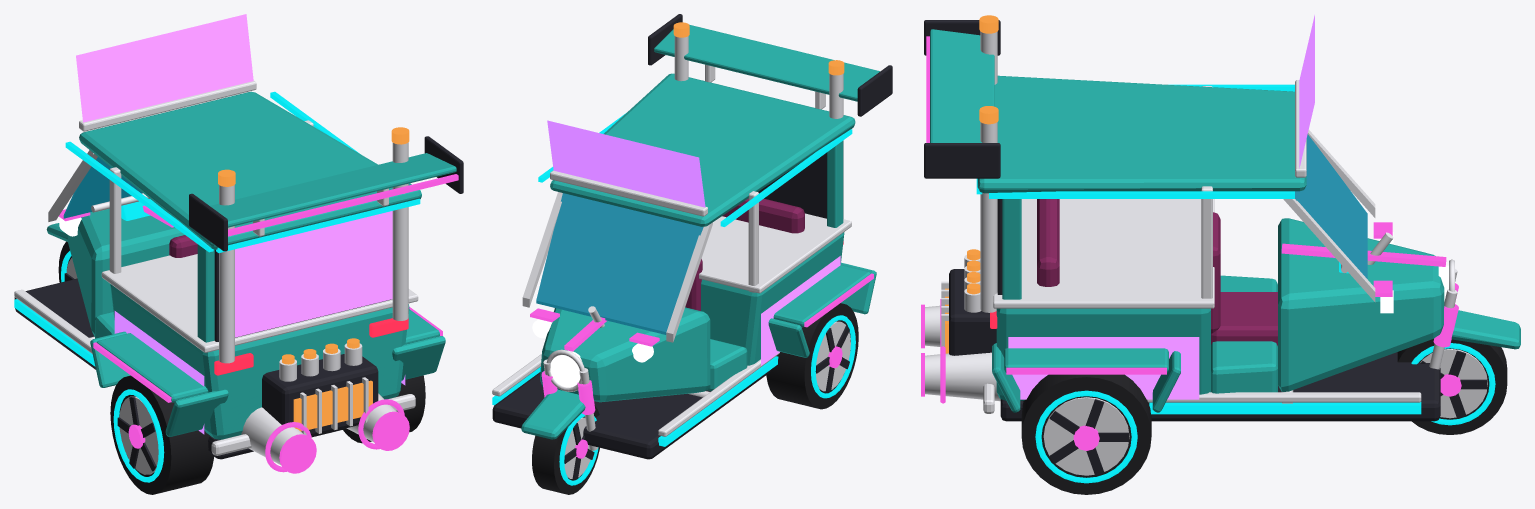
File: cyber_rickshaw.glb
3 renders of one model, left to right at view 1: azimuth 30°, elevation 25°; view 2: azimuth 150°, elevation 25°; view 3: azimuth 270°, elevation 25°, orthographic. The views are drawn at different scales.
Visible parts, largest first — view 1: body, wheel_rl, wheel_rr, wheel_f; view 2: body, wheel_rl, wheel_f; view 3: body, wheel_rr, wheel_f.
Boxes of the visible parts, left/top/right/bottom form: body: left=14, top=14, right=463, bottom=473; wheel_rl: left=110, top=375, right=213, bottom=494; wheel_rr: left=343, top=375, right=425, bottom=443; wheel_f: left=58, top=241, right=77, bottom=282; body: left=492, top=14, right=892, bottom=459; wheel_rl: left=766, top=303, right=858, bottom=409; wheel_f: left=532, top=405, right=599, bottom=494; body: left=921, top=15, right=1520, bottom=421; wheel_rr: left=1021, top=374, right=1151, bottom=494; wheel_f: left=1397, top=338, right=1507, bottom=434.
Size of the model in its own units: 1.77 by 2.14 by 3.13.
